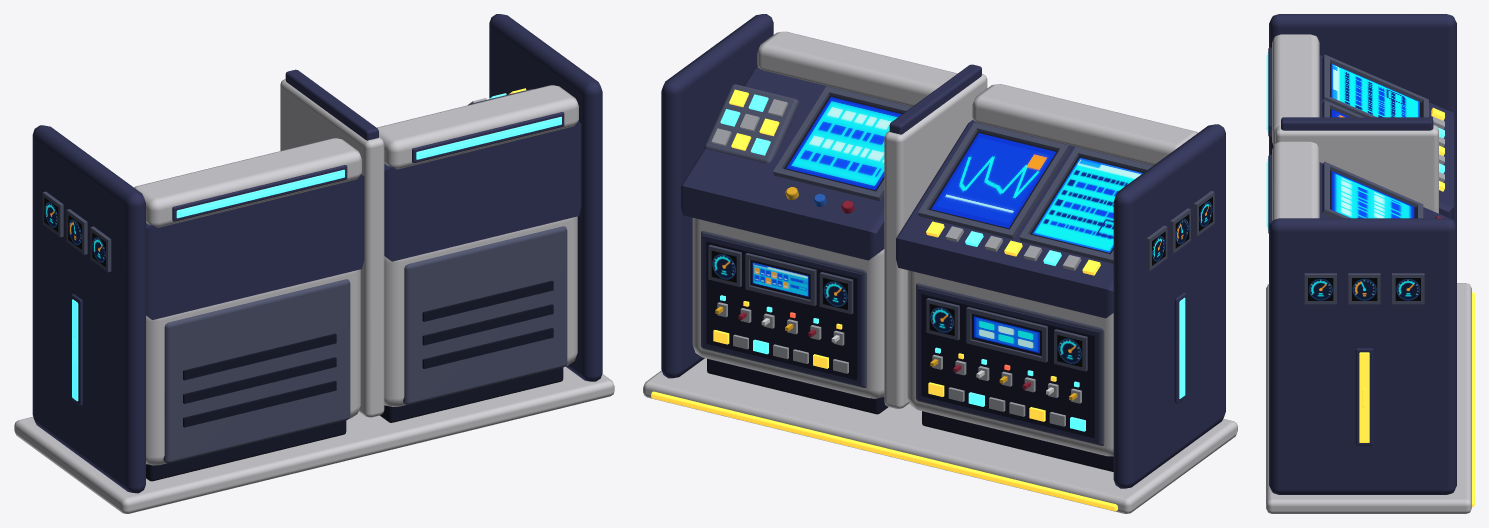
File: prop.props_bridge.wall_console_low.glb
The picture shows the model from 3 angles, left to right: view 1: azimuth 30°, elevation 25°; view 2: azimuth 150°, elevation 25°; view 3: azimuth 270°, elevation 25°; orthographic projection. The views are drawn at different scales.
Visible parts, largest first — view 1: prop.props_bridge.wall_console_low; view 2: prop.props_bridge.wall_console_low; view 3: prop.props_bridge.wall_console_low.
Part boxes in pixels (x1,y1,x2,y2): prop.props_bridge.wall_console_low: (14, 14, 614, 513); prop.props_bridge.wall_console_low: (643, 14, 1237, 513); prop.props_bridge.wall_console_low: (1266, 14, 1474, 513).
Bounding box in the file's own units: 1.75 × 1.08 × 0.7.
21 materials, 7 textured.
